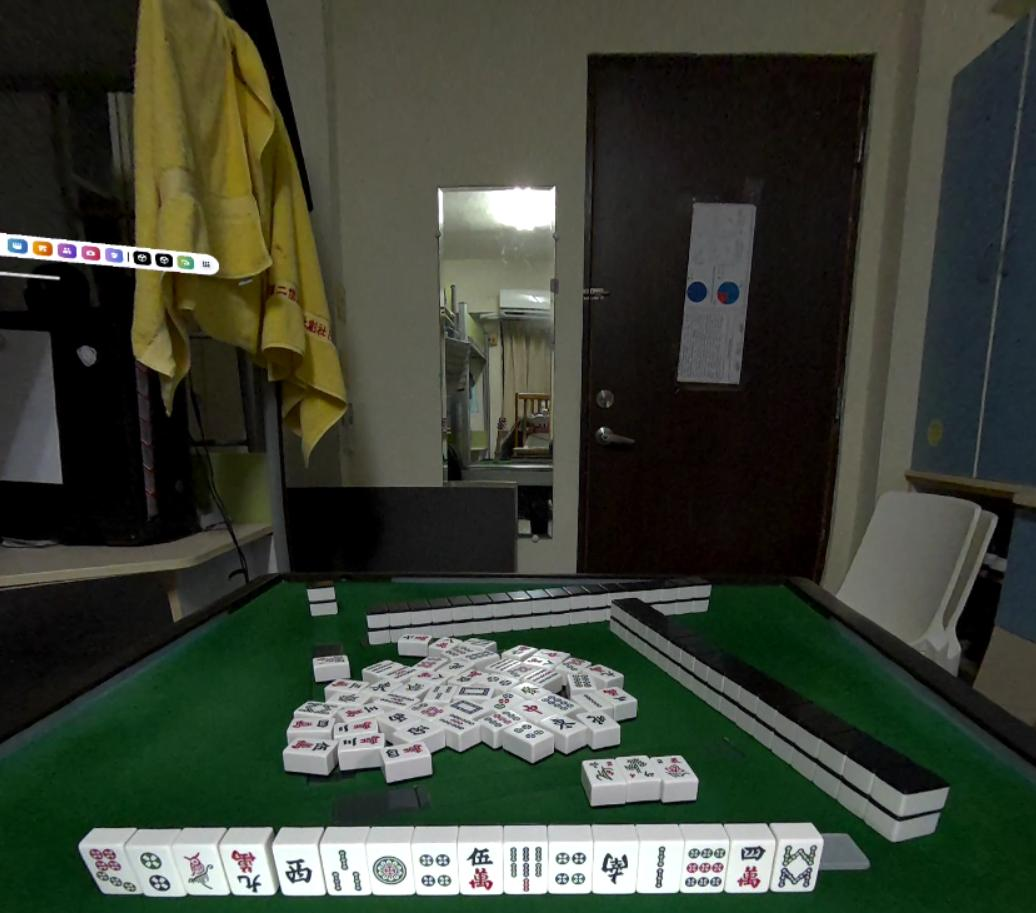mahjong: (73, 837, 140, 902), (124, 843, 177, 901), (220, 839, 269, 895), (170, 840, 220, 894), (359, 849, 413, 898), (460, 843, 507, 896), (506, 837, 549, 894), (317, 846, 365, 896), (684, 840, 728, 894), (776, 836, 817, 893), (414, 845, 458, 897), (547, 842, 592, 891), (639, 846, 684, 895), (593, 846, 637, 896), (274, 843, 316, 894), (729, 843, 770, 891)
